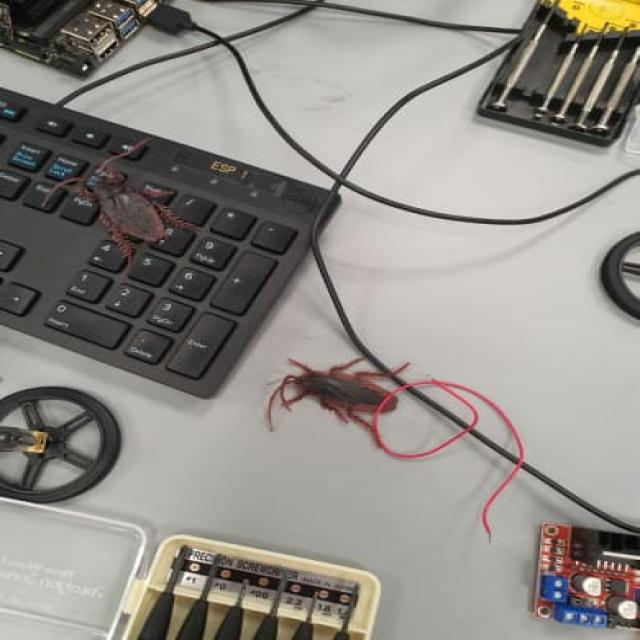Cockroach: (49, 138, 199, 255), (263, 345, 410, 444)
